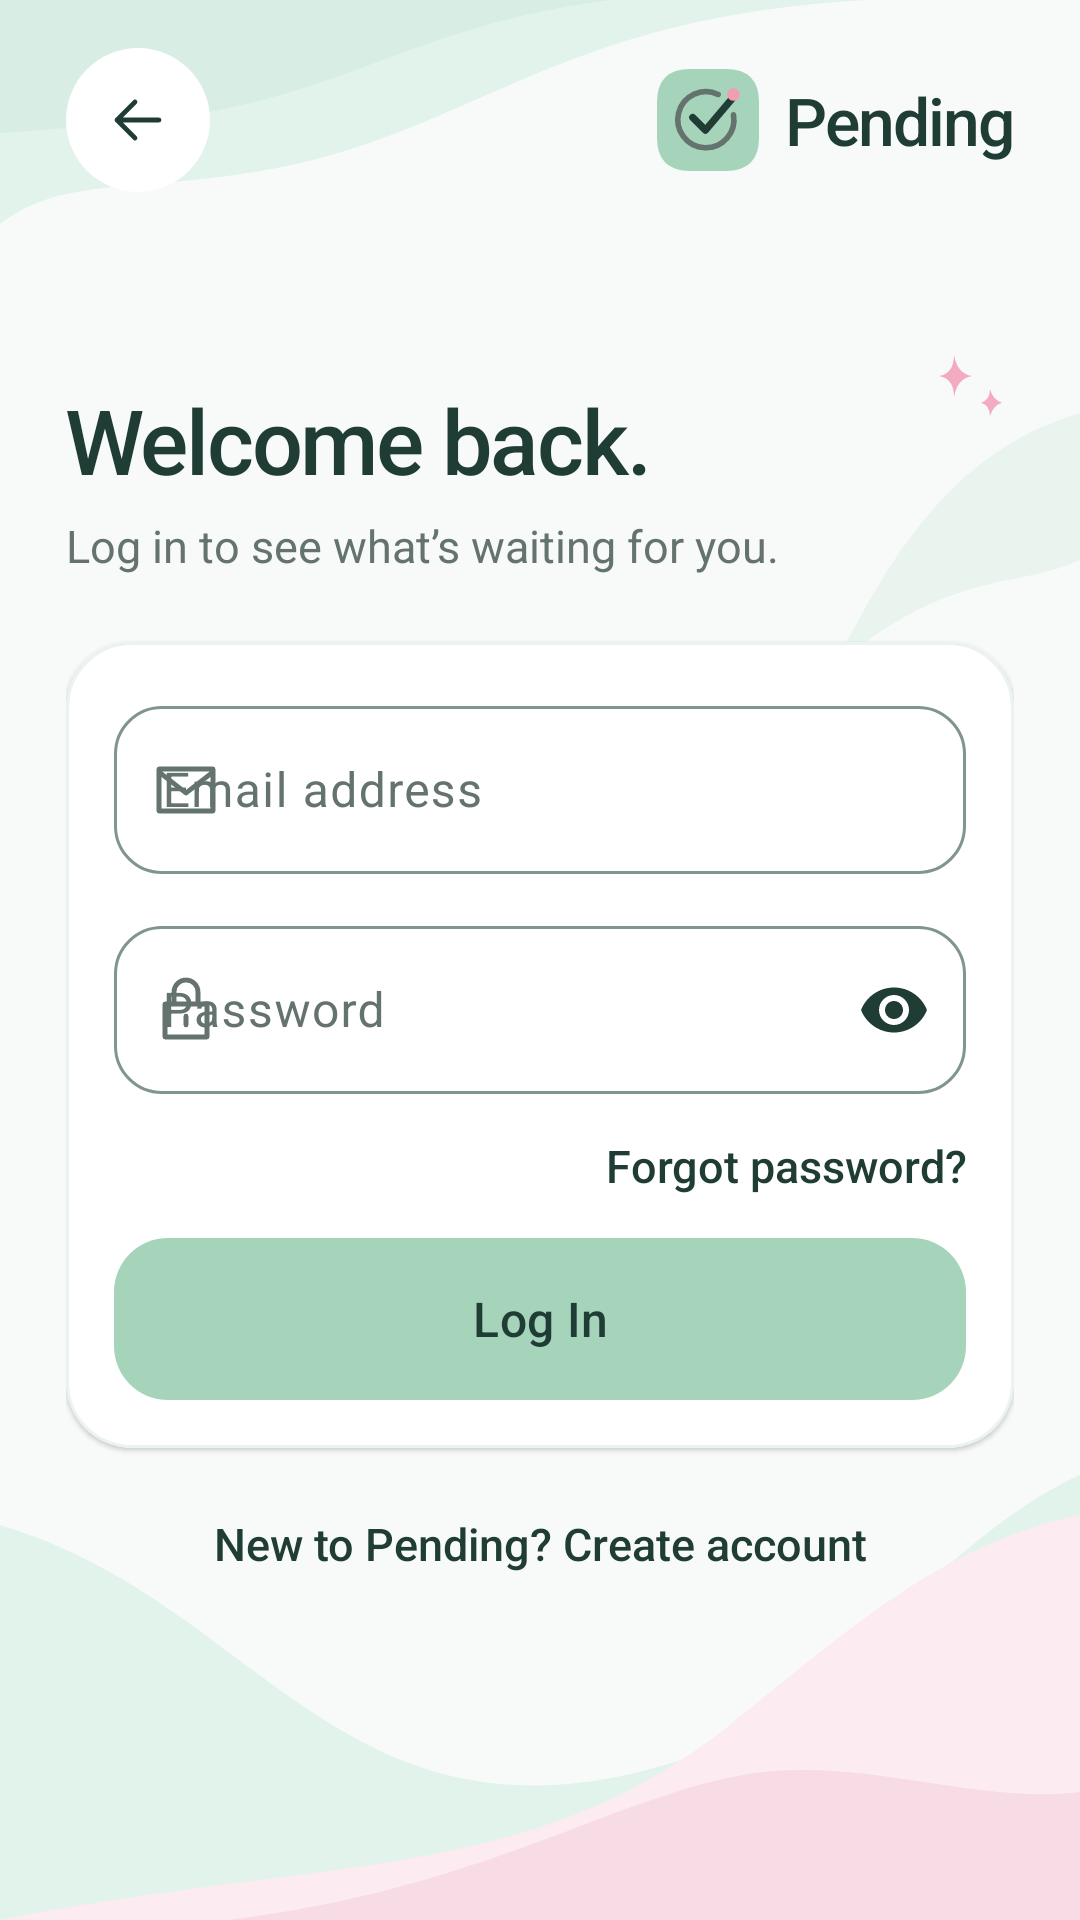

Locate icon controls on the screen. Image size 1080×1920, boxes as (x1, y1, x2, y2).
Go back: (66, 48, 210, 192)
